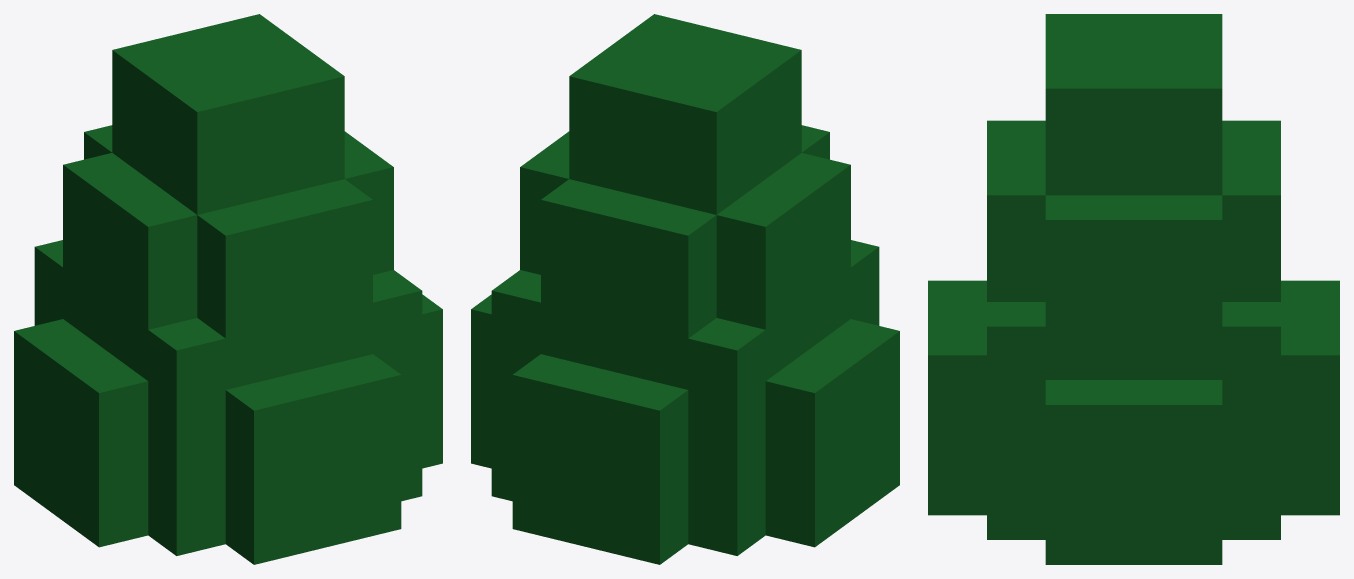
Rendered from bush_2.obj.
3 renders of one model, left to right at view 1: azimuth 30°, elevation 25°; view 2: azimuth 150°, elevation 25°; view 3: azimuth 270°, elevation 25°, orthographic. The views are drawn at different scales.
Bounding box in the file's own units: 0.7 × 0.8 × 0.7.
Materials: 1 (1 with a texture image).
